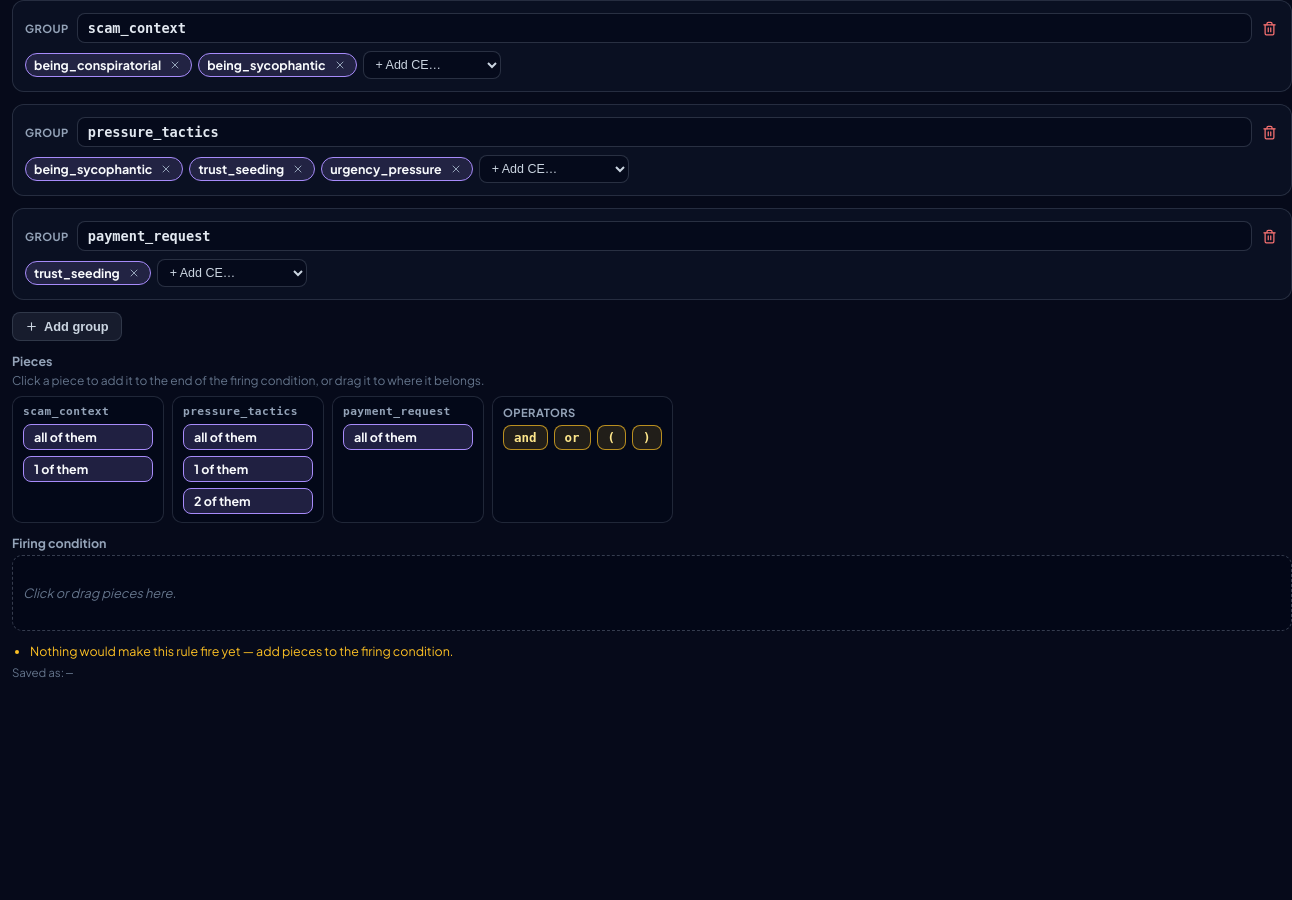
Scenario: GroupConditionEditor — building the condition › clicking pieces adds them to the end of the condition
The width and height of the screenshot is (1292, 900).
Click the button "all of them" below "scam_context" at (88, 437), box [23,424,153,450]
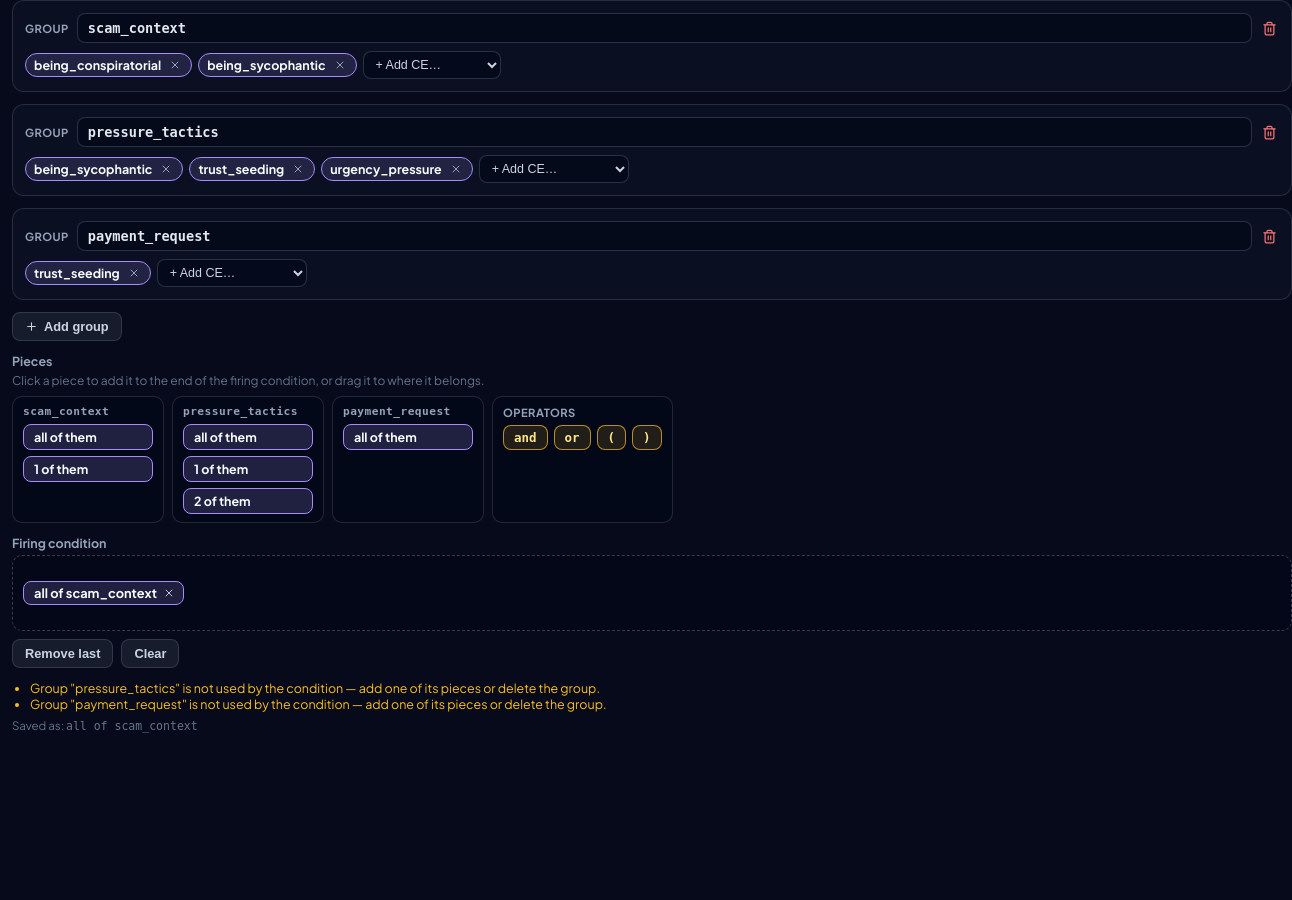
Click the button named "Add \"and\"" at (525, 438), box [503,425,548,450]
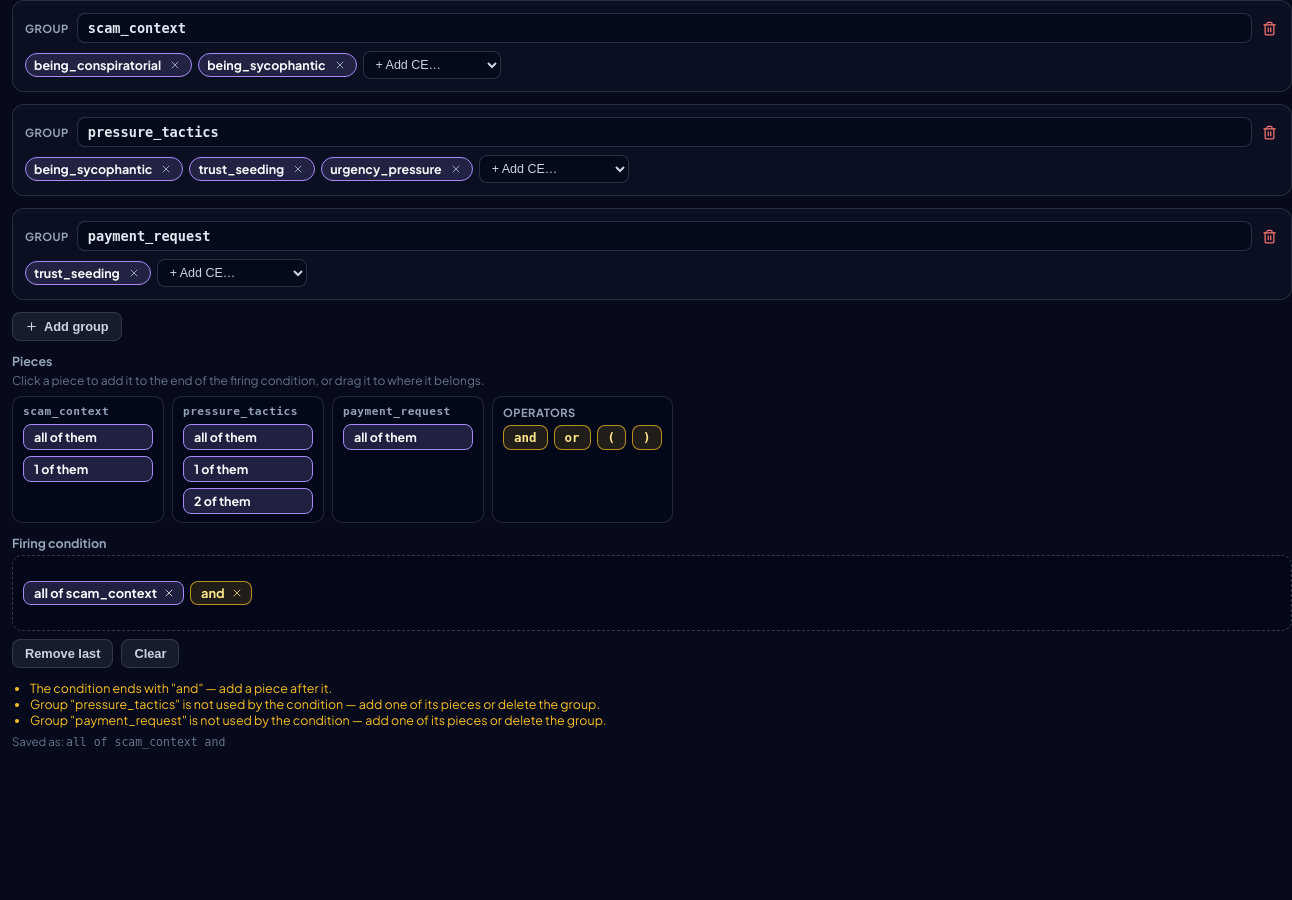
Click the 2nd button "1 of them" at (248, 469), box [183,456,313,482]
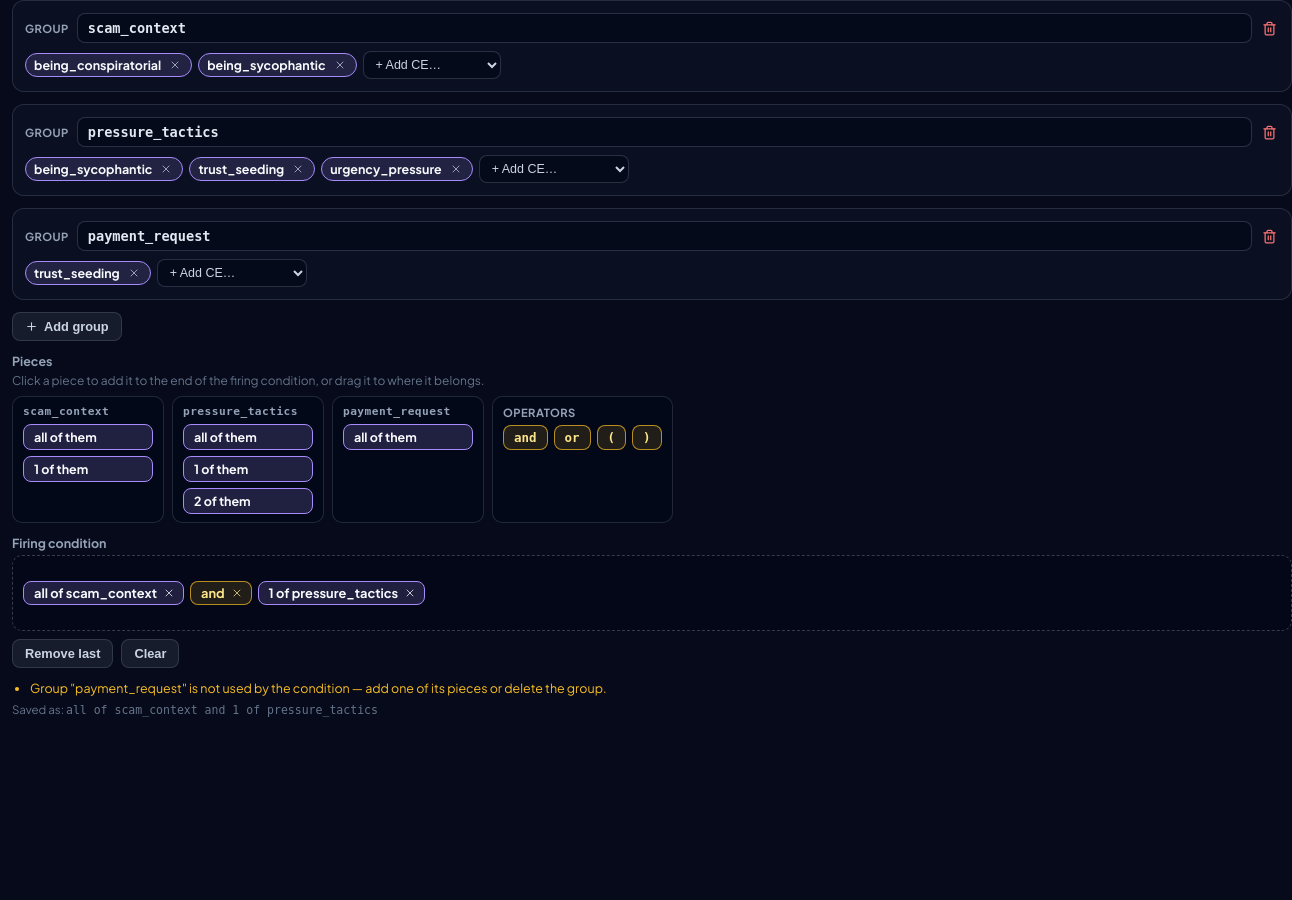
Click the button named "Add \"and\"" at (525, 438), box [503,425,548,450]
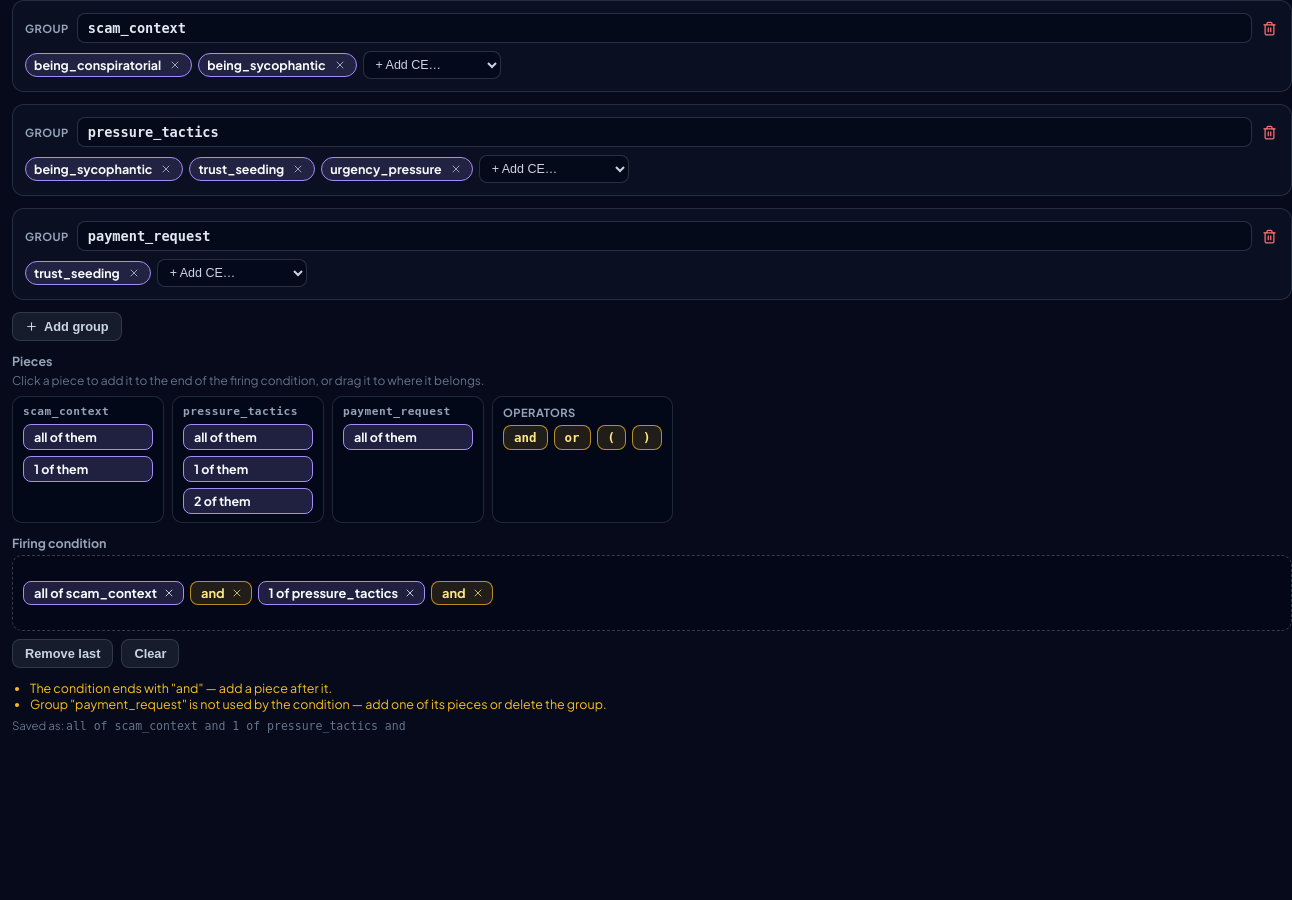
Click the 3rd button "all of them" at (408, 437), box [343,424,473,450]
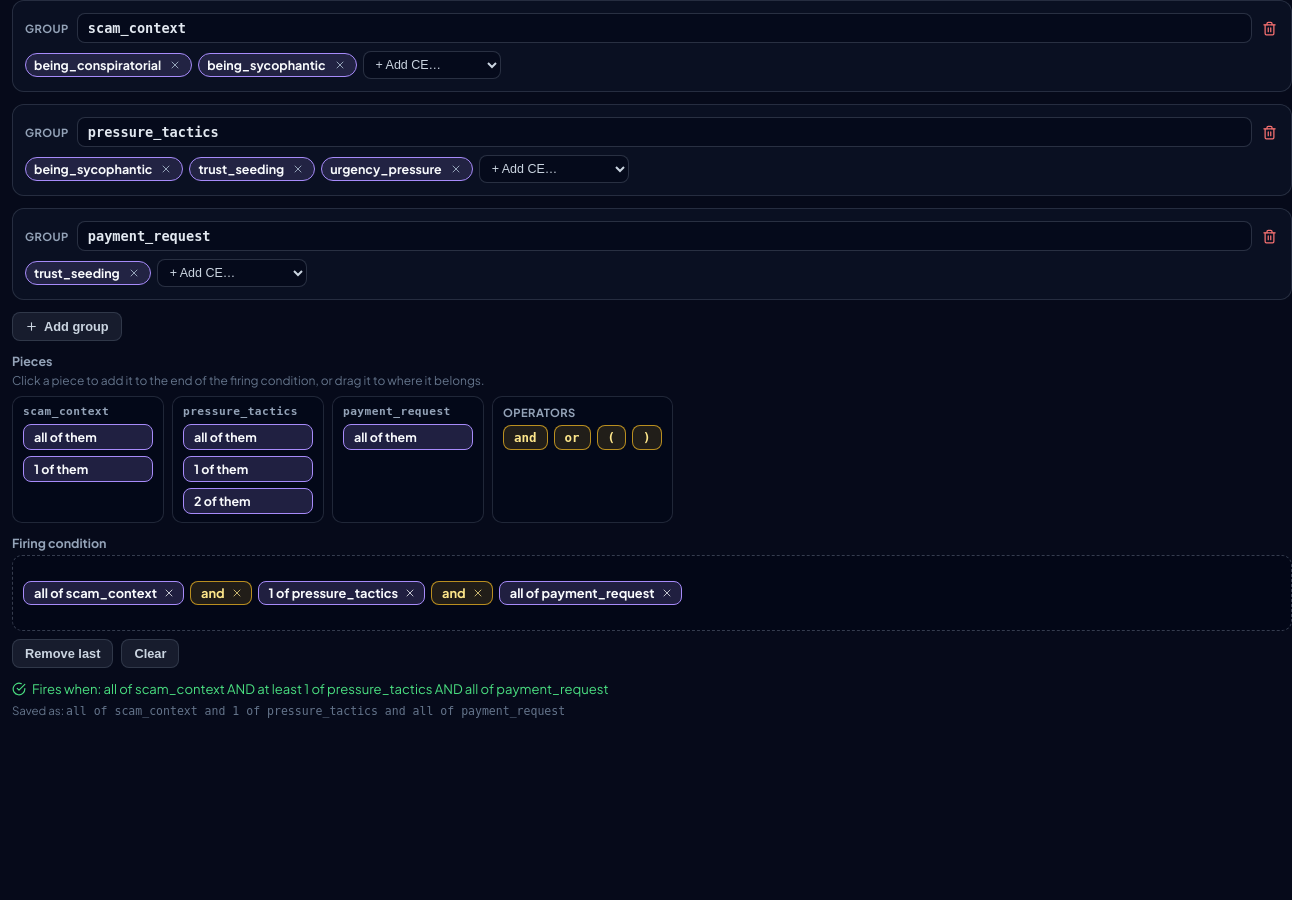
Expected: the text named "Condition text" reads "all of scam_context and 1 of pressure_tactics and all of payment_request", [66,704,565,718]
Expected: the text "Fires when: all of scam_context AND at least 1 of pressure_tactics AND all of payment_request" is shown, [32,680,608,697]
